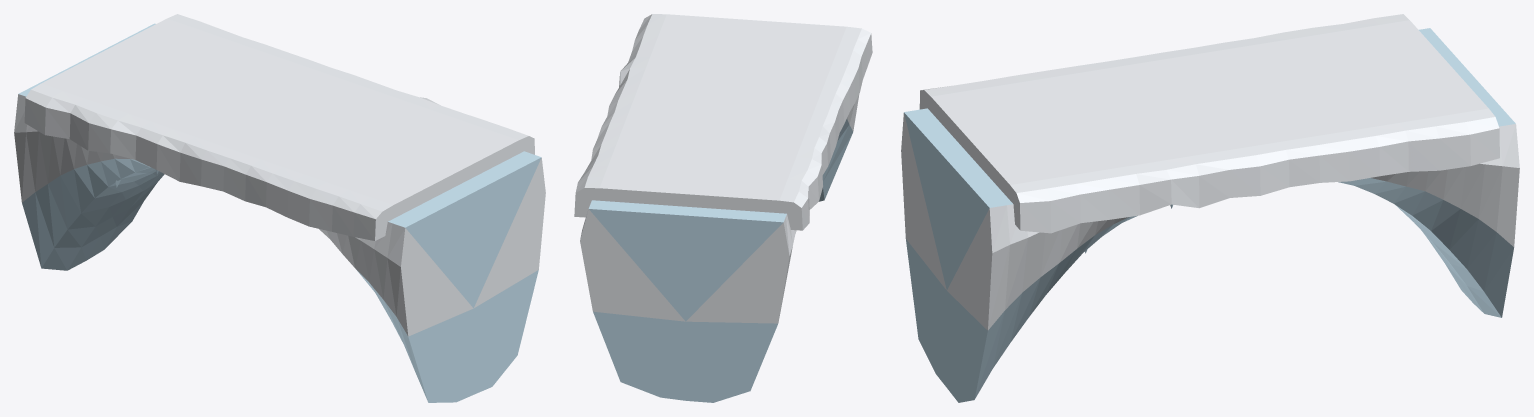
3 renders of one model, left to right at view 1: azimuth 30°, elevation 25°; view 2: azimuth 150°, elevation 25°; view 3: azimuth 270°, elevation 25°, orthographic. The views are drawn at different scales.
Visible parts, largest first — view 1: Mesh_L2A_SnowArch_32; view 2: Mesh_L2A_SnowArch_32; view 3: Mesh_L2A_SnowArch_32.
Boxes of the visible parts, <box> form: Mesh_L2A_SnowArch_32: <box>14,14,545,402</box>; Mesh_L2A_SnowArch_32: <box>574,14,872,402</box>; Mesh_L2A_SnowArch_32: <box>901,14,1519,402</box>.
Bounding box in the file's own units: 13.12 × 7.98 × 18.25.
